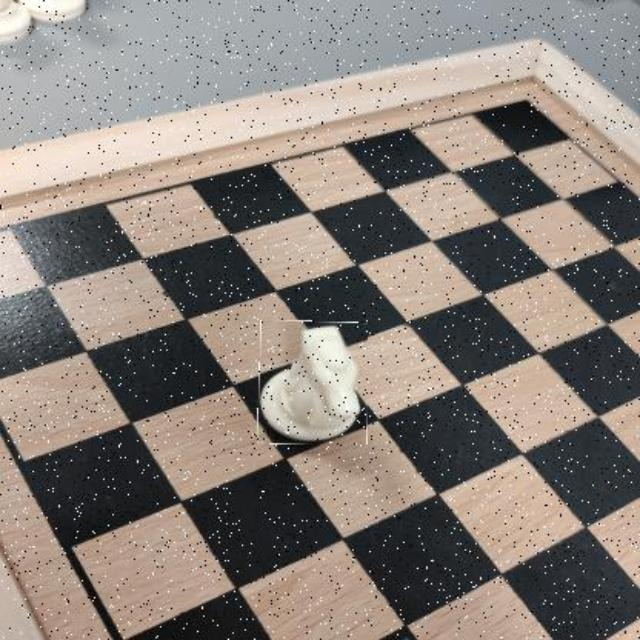white-knight: (258, 321, 368, 445)
